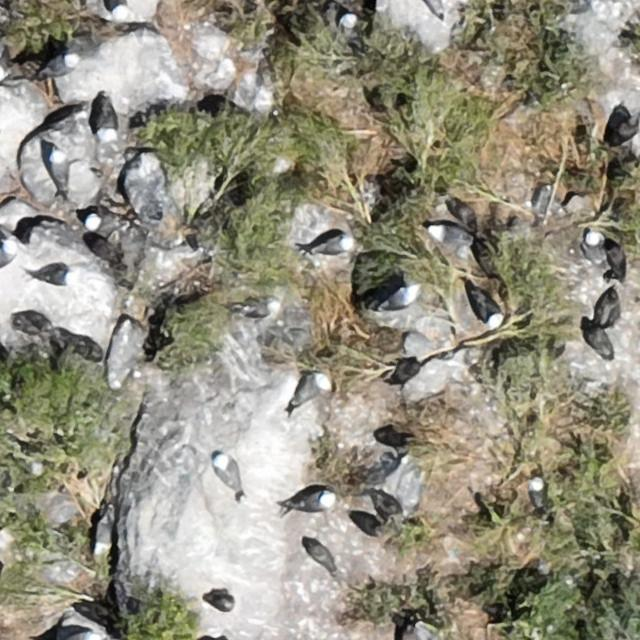umineko: (38, 52, 80, 83), (282, 490, 335, 514), (86, 214, 120, 244), (97, 102, 122, 142), (475, 294, 501, 326), (383, 287, 418, 309), (298, 375, 326, 400), (216, 456, 237, 487), (315, 236, 350, 253), (429, 225, 463, 242), (40, 268, 74, 285), (244, 301, 278, 317), (1, 237, 18, 268), (354, 514, 380, 534), (50, 150, 66, 182), (207, 593, 236, 610), (585, 229, 610, 247), (528, 476, 542, 506), (426, 0, 445, 17), (109, 0, 126, 19), (340, 12, 357, 31), (73, 631, 102, 640)
